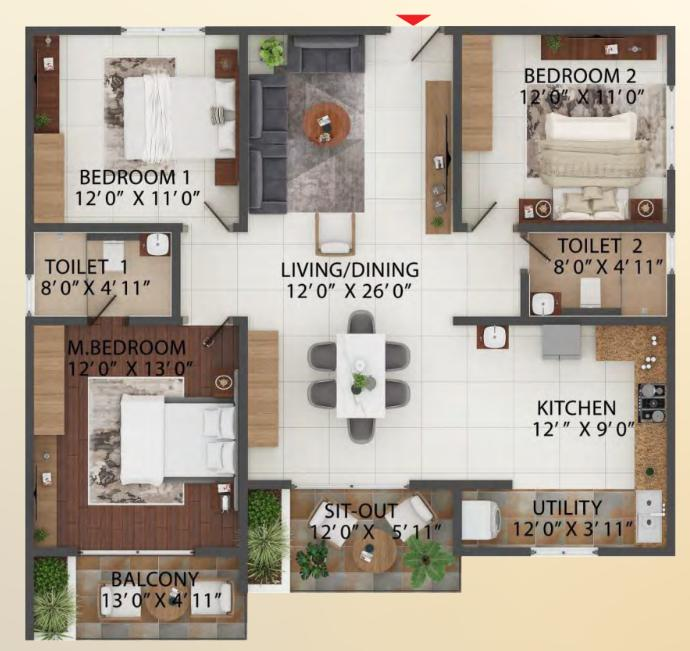Balcony: (252, 487, 456, 588), (29, 556, 249, 642)
Bed: (545, 112, 636, 225), (117, 77, 240, 160), (117, 402, 240, 481)
Bedroom: (29, 319, 250, 558), (459, 25, 672, 229), (25, 32, 244, 220)
Dining Room: (240, 305, 456, 482)
Dining table: (303, 309, 421, 450)
Kitchen: (457, 326, 671, 484)
Living Room: (240, 30, 456, 316), (179, 226, 240, 317)
Sofa: (245, 133, 290, 216), (289, 29, 367, 76), (246, 72, 281, 136)
Wardrobe: (30, 324, 66, 435), (251, 331, 281, 445), (464, 33, 492, 151), (34, 135, 64, 222)
commode: (578, 277, 602, 307), (102, 241, 124, 271)
door: (465, 199, 519, 234), (185, 317, 236, 352), (89, 287, 130, 323), (400, 33, 440, 66), (526, 236, 560, 273), (197, 199, 231, 235)
fridge: (539, 327, 583, 360)
kitchen-slab: (635, 323, 666, 490), (595, 323, 668, 361)
sink: (636, 489, 666, 541), (530, 292, 559, 319), (479, 327, 509, 349)
stove: (638, 383, 668, 423)
toilet: (30, 230, 175, 318), (520, 230, 671, 312)
tv: (427, 76, 454, 241), (26, 437, 60, 544), (29, 30, 61, 128), (543, 31, 651, 56)
utility: (456, 490, 666, 550)
washing-machine: (460, 500, 502, 541)
